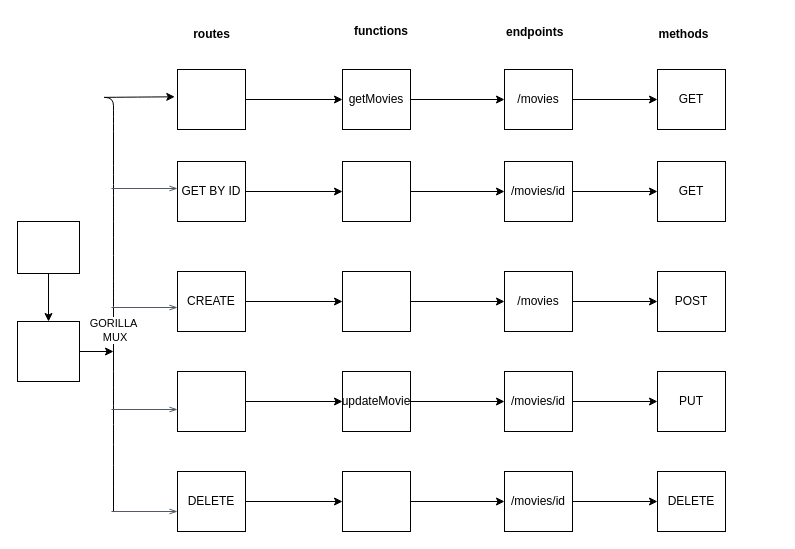
The diagram is 795 pixels wide and 549 high, and some of its shapes have lost their labels. The centre of each missing label's shape, as x and y in pixels:
createMovie: the point at 376,301
deleteMovie: the point at 376,501
GET ALL: the point at 211,99
getMovie: the point at 376,191
MOVIE SERVER: the point at 48,351
UPDATE: the point at 211,401
